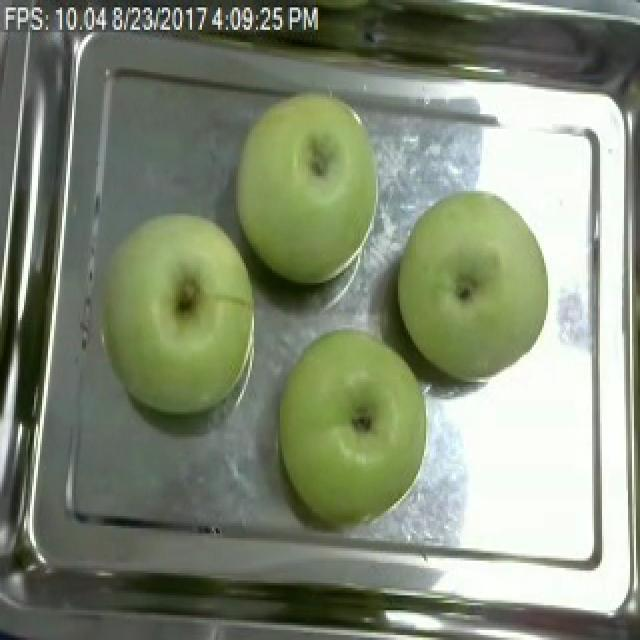50-_ripeness: (230, 91, 392, 286), (398, 192, 558, 386), (285, 315, 429, 525), (106, 224, 260, 409)
